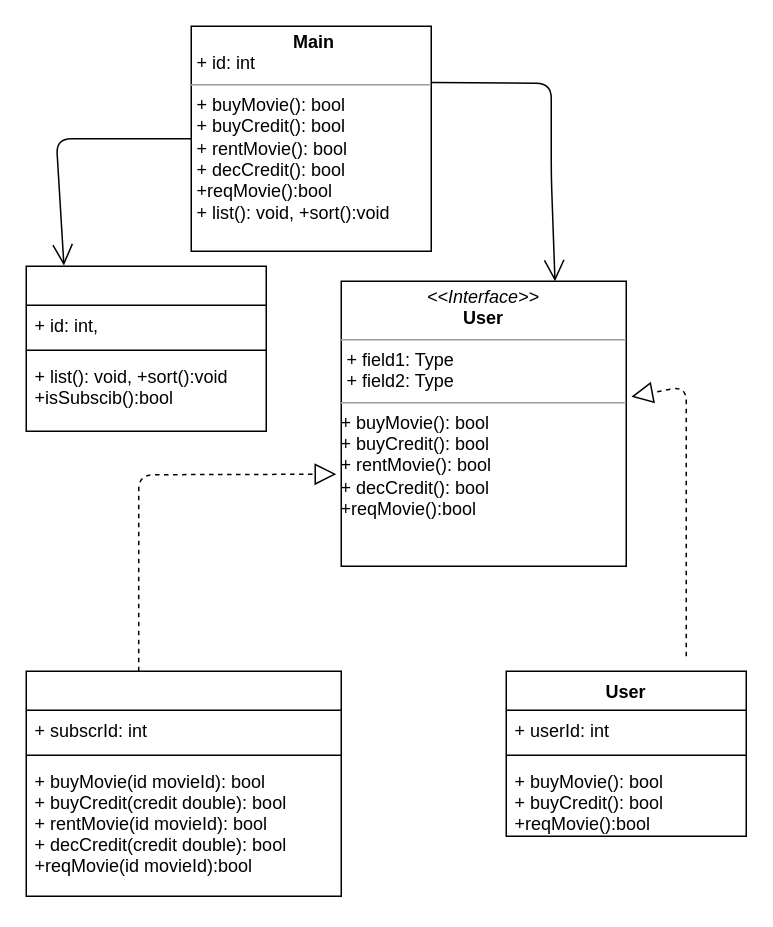
Some shapes in this 773 by 927 pixel diagram are drawn without their labels. Here are the shapes that lost their labels. From the top down, the box of each, then its label:
(25, 265, 266, 431): Movies
(25, 670, 341, 896): Subscriber
